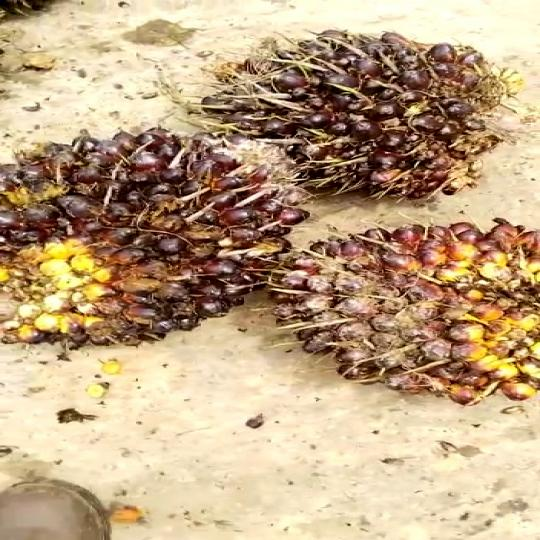kurang masak: (0, 118, 303, 370), (200, 24, 540, 219), (274, 213, 540, 408)
